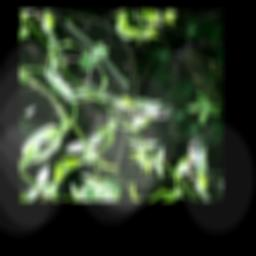Cuckoo: (82, 49, 177, 142)
